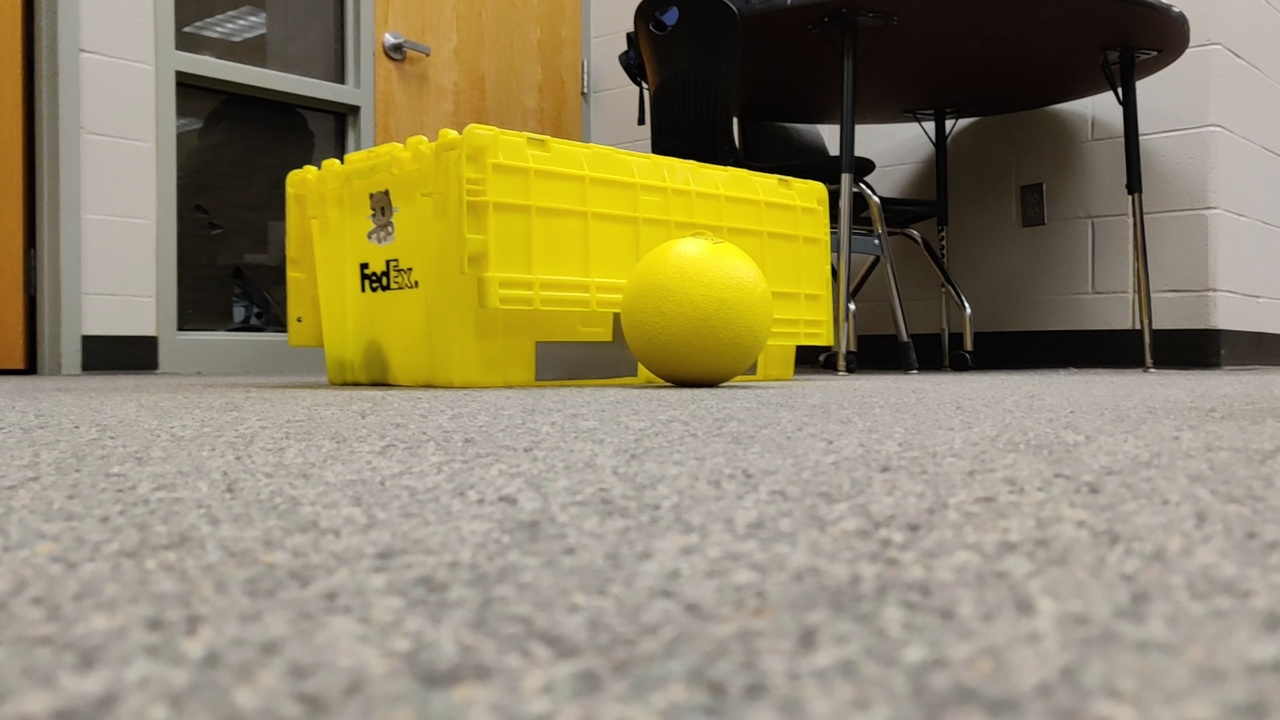Ball: (626, 239, 772, 386)
